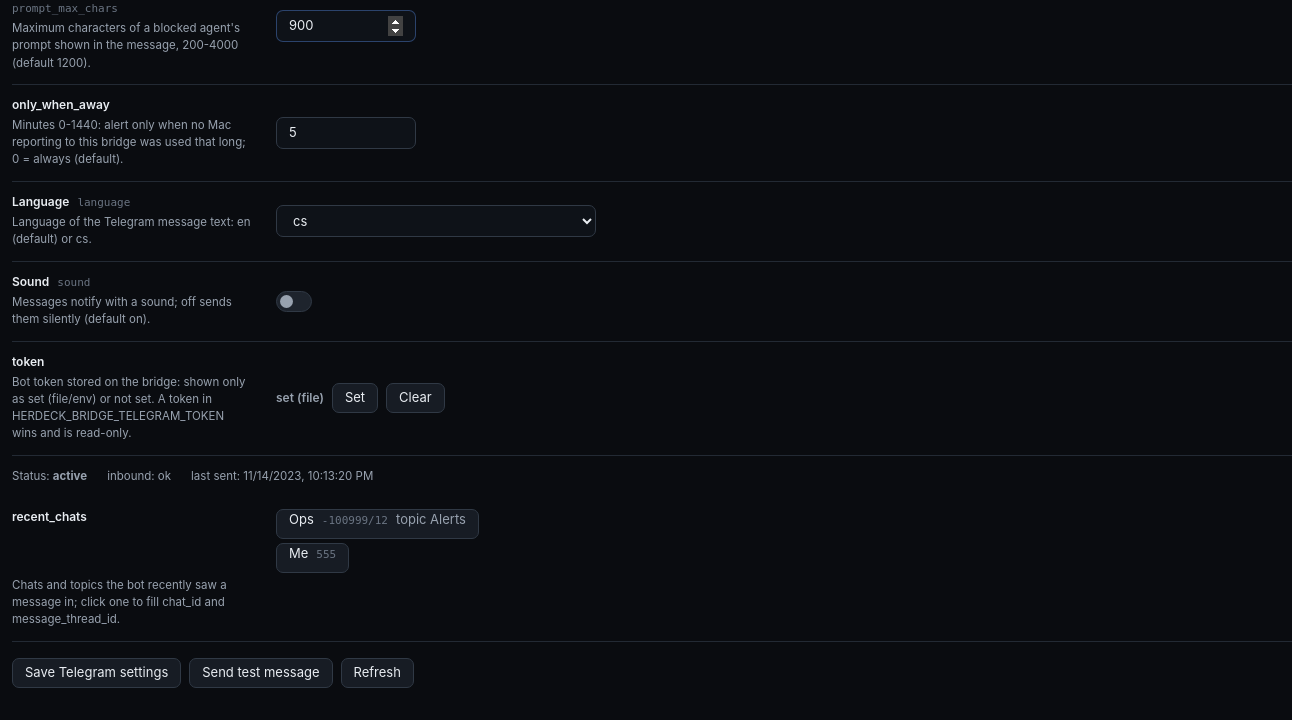
Test: token row › Set reports an invalid token
The width and height of the screenshot is (1292, 720).
(page scrolled)
Click the button "Set".
click(355, 398)  # box x1=332 y1=383 x2=378 y2=413
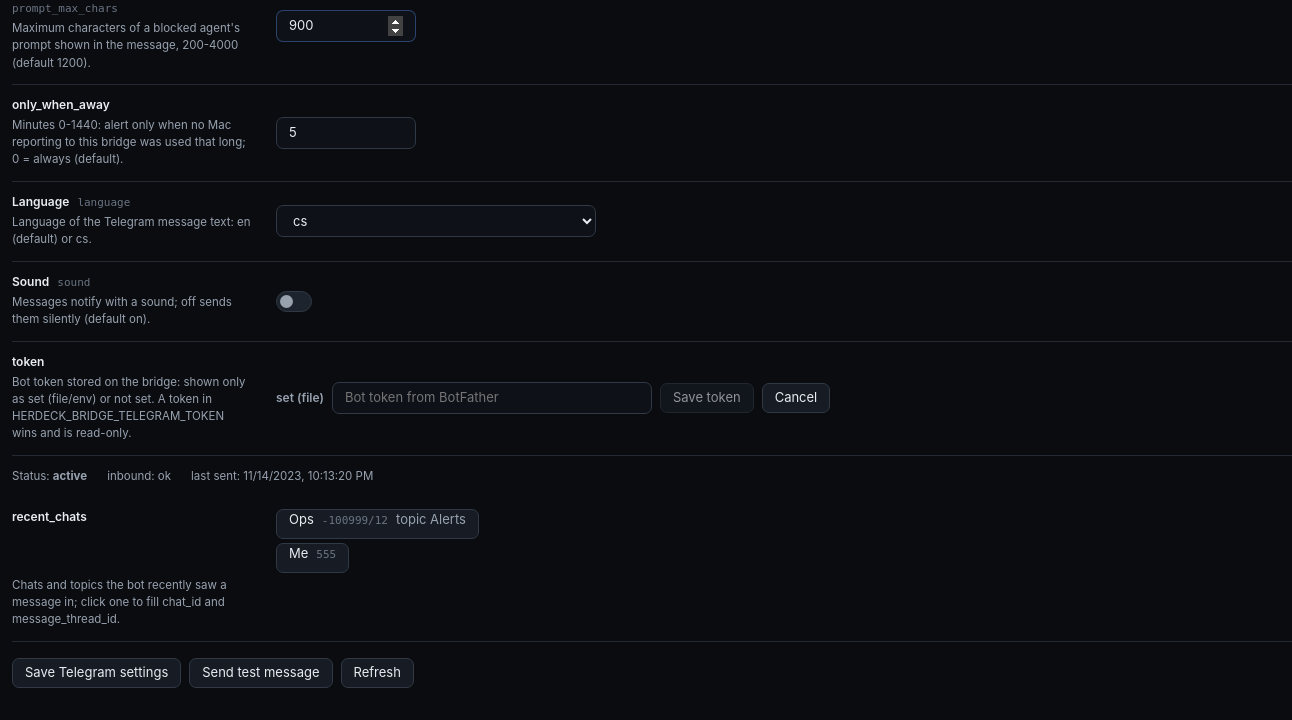
Type "nope" into the password field with placeholder "Bot token from BotFather".
click(492, 398); type("nope")  # box x1=332 y1=382 x2=652 y2=414
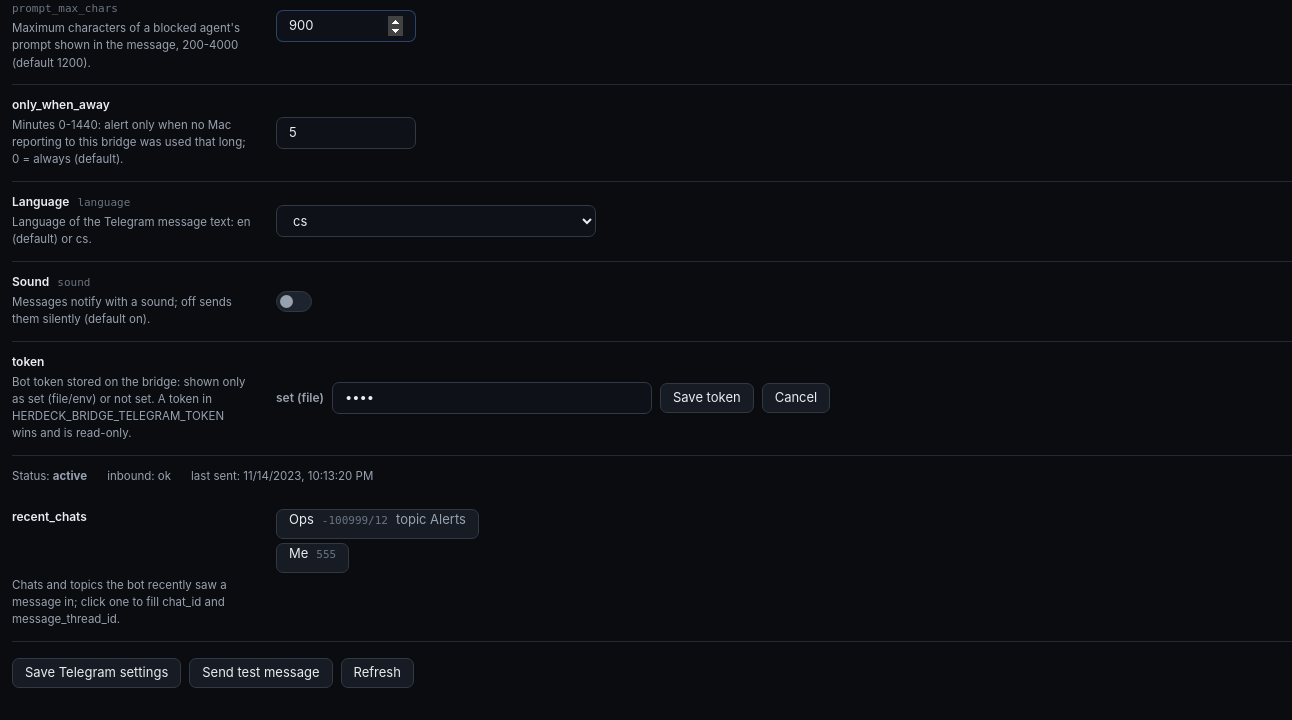
Click the button "Save token".
click(707, 398)  # box x1=660 y1=383 x2=754 y2=413
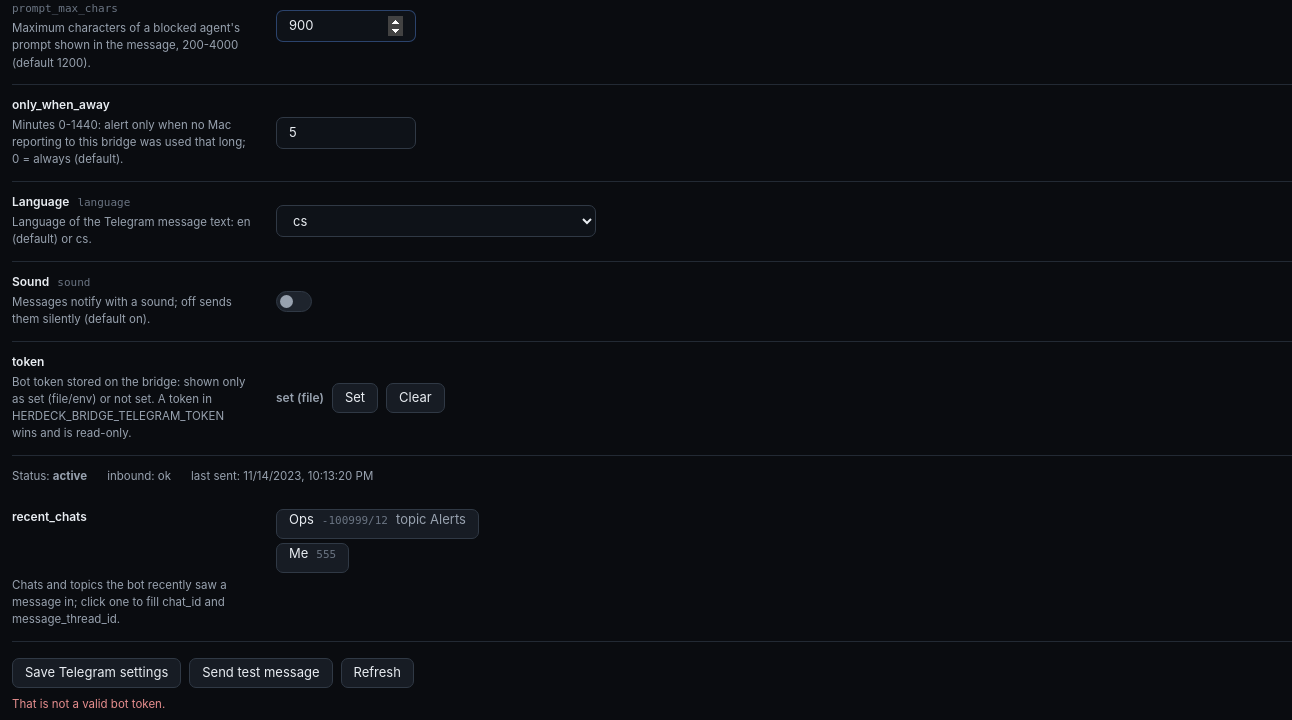
Result: the message "That is not a valid bot token." is shown at x1=12 y1=697 x2=165 y2=711
